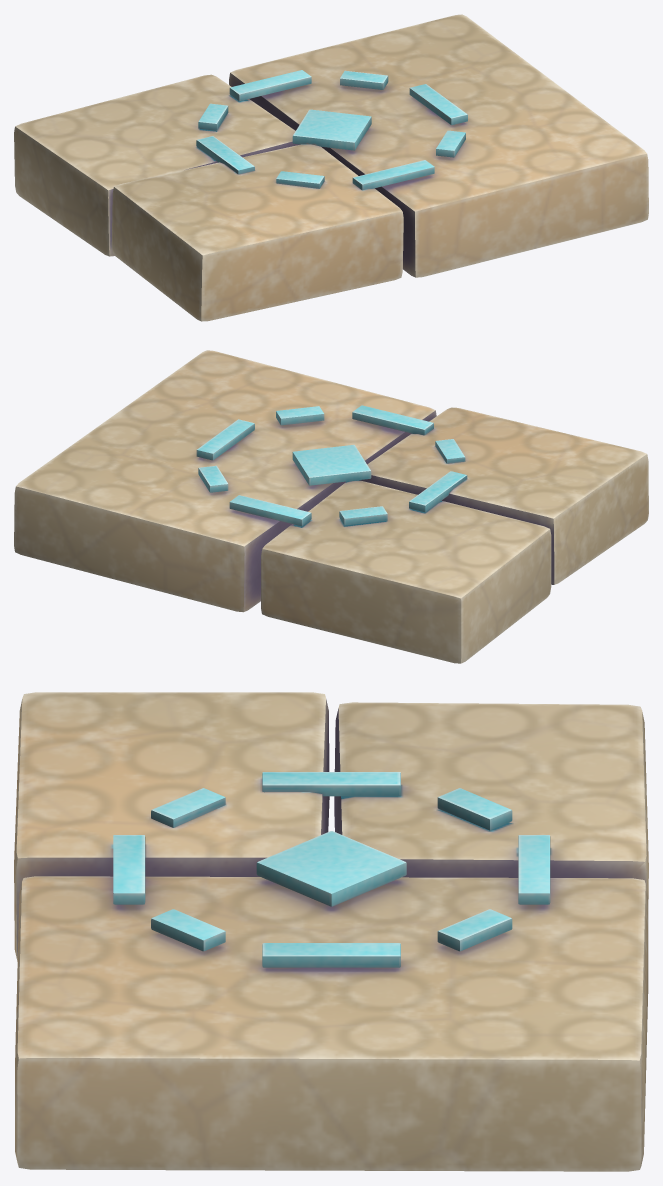
Rendered from DalleRunique.fbx.
The picture shows the model from 3 angles, top to bottom: view 1: azimuth 30°, elevation 25°; view 2: azimuth 150°, elevation 25°; view 3: azimuth 270°, elevation 25°; orthographic projection. The views are drawn at different scales.
Visible parts, largest first — view 1: DalleRunique; view 2: DalleRunique; view 3: DalleRunique.
Part boxes in pixels (x1,y1,x2,y2): DalleRunique: [14, 14, 648, 321]; DalleRunique: [14, 350, 648, 663]; DalleRunique: [14, 692, 648, 1171].
Bounding box in the file's own units: 806 × 141 × 596.
1 material, 1 textured.
